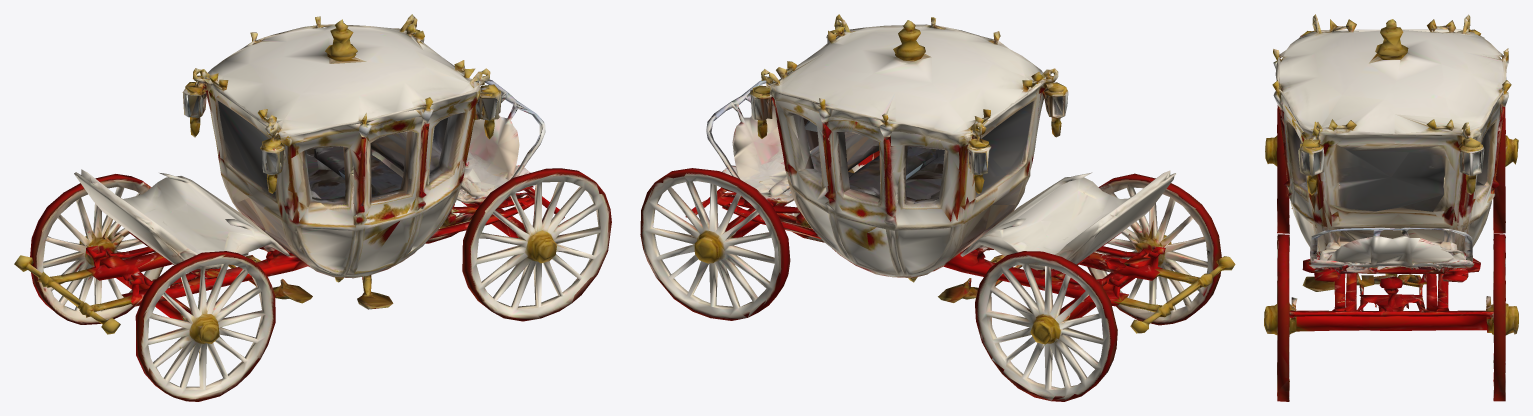
File: Royal_Carriage.glb
3 renders of one model, left to right at view 1: azimuth 30°, elevation 25°; view 2: azimuth 150°, elevation 25°; view 3: azimuth 270°, elevation 25°, orthographic. The views are drawn at different scales.
Parts seen in each view (by area): view 1: Royal_Carriage; view 2: Royal_Carriage; view 3: Royal_Carriage.
Boxes of the visible parts, <box> form: Royal_Carriage: <box>14,14,611,401</box>; Royal_Carriage: <box>640,14,1235,401</box>; Royal_Carriage: <box>1264,14,1518,401</box>.
Size of the model in its own units: 1.91 by 1.07 by 0.8165.
Materials: 1 (1 with a texture image).
